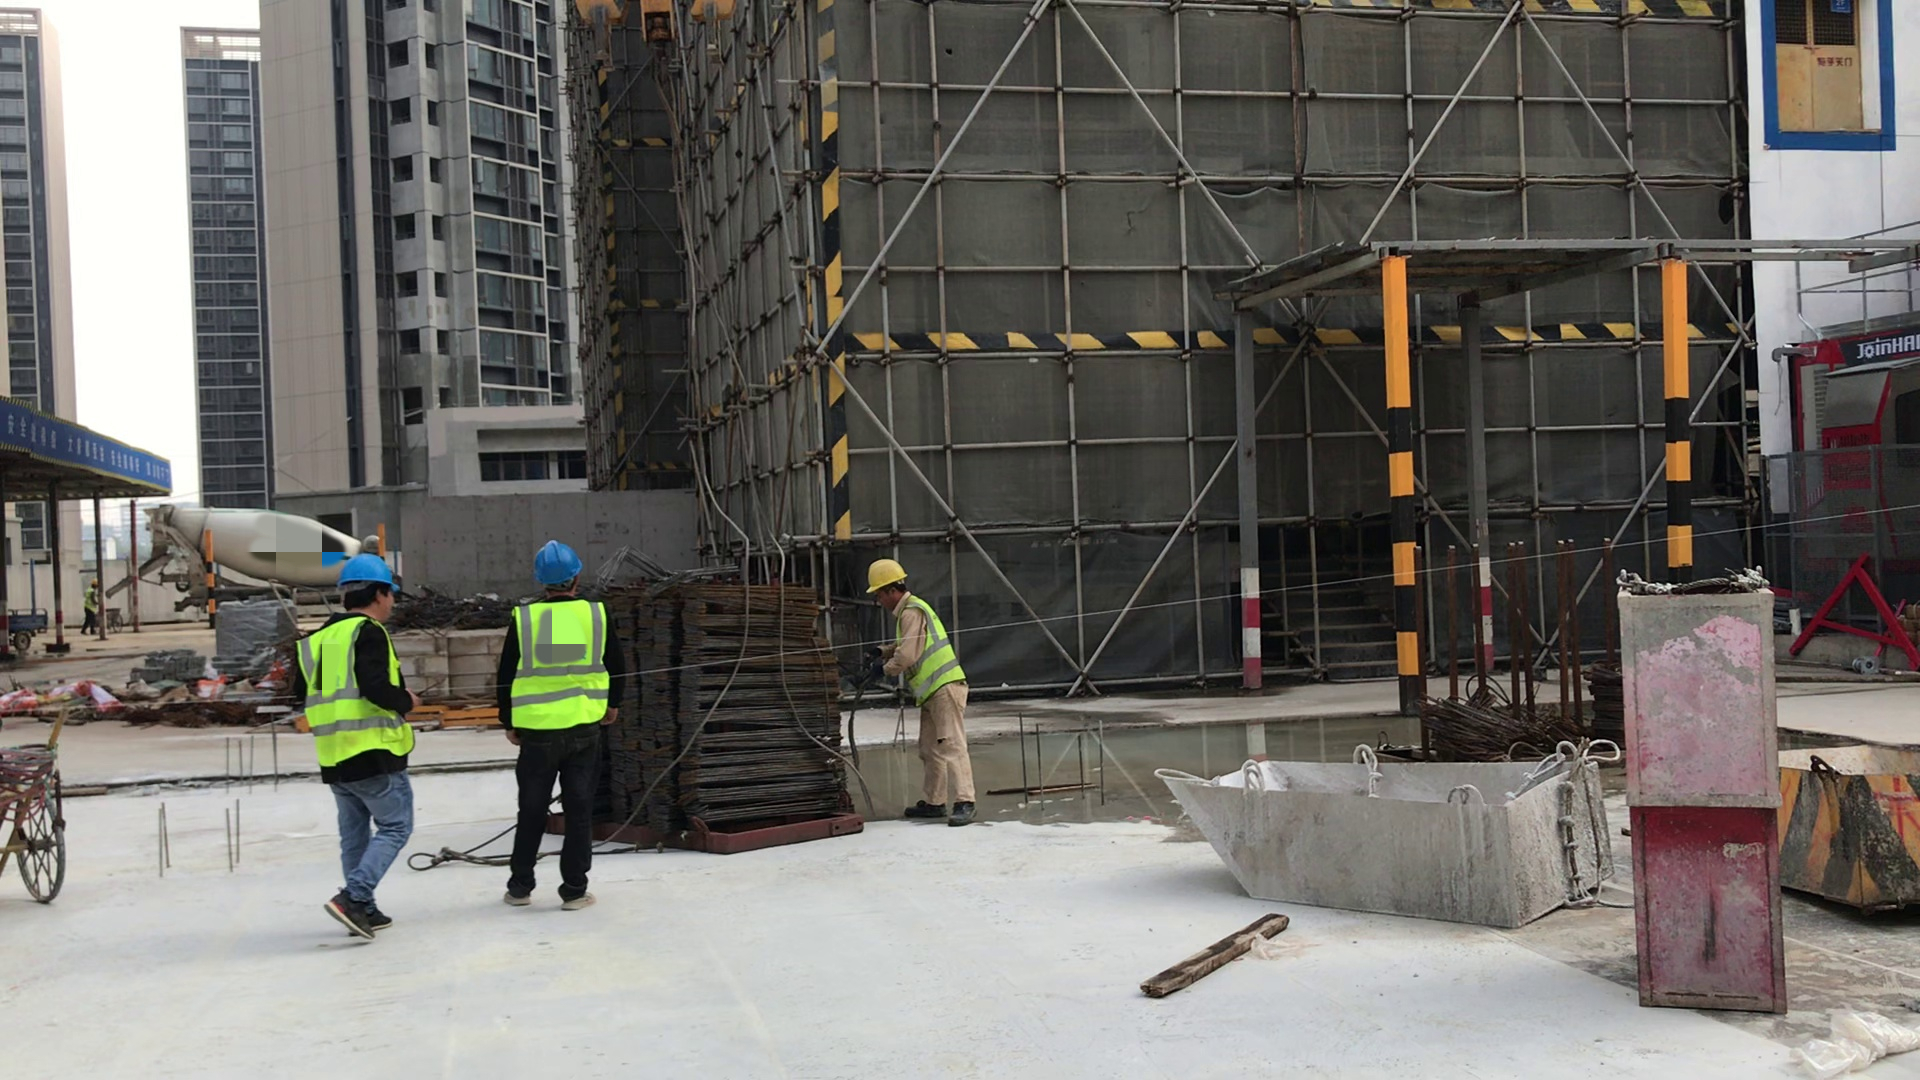brick: (371, 618, 512, 711)
handcart: (5, 694, 80, 910)
helmet: (334, 552, 402, 590), (534, 536, 585, 584), (865, 558, 909, 596)
hopper: (1148, 734, 1623, 933)
person: (287, 549, 409, 944), (488, 536, 604, 914), (861, 557, 991, 826), (84, 577, 101, 634)
slogan: (8, 388, 184, 499)
vest: (290, 617, 418, 782), (503, 592, 611, 736), (882, 599, 973, 701)
